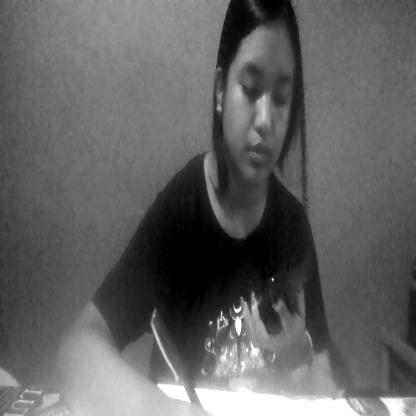Distracted: (210, 16, 302, 187)
